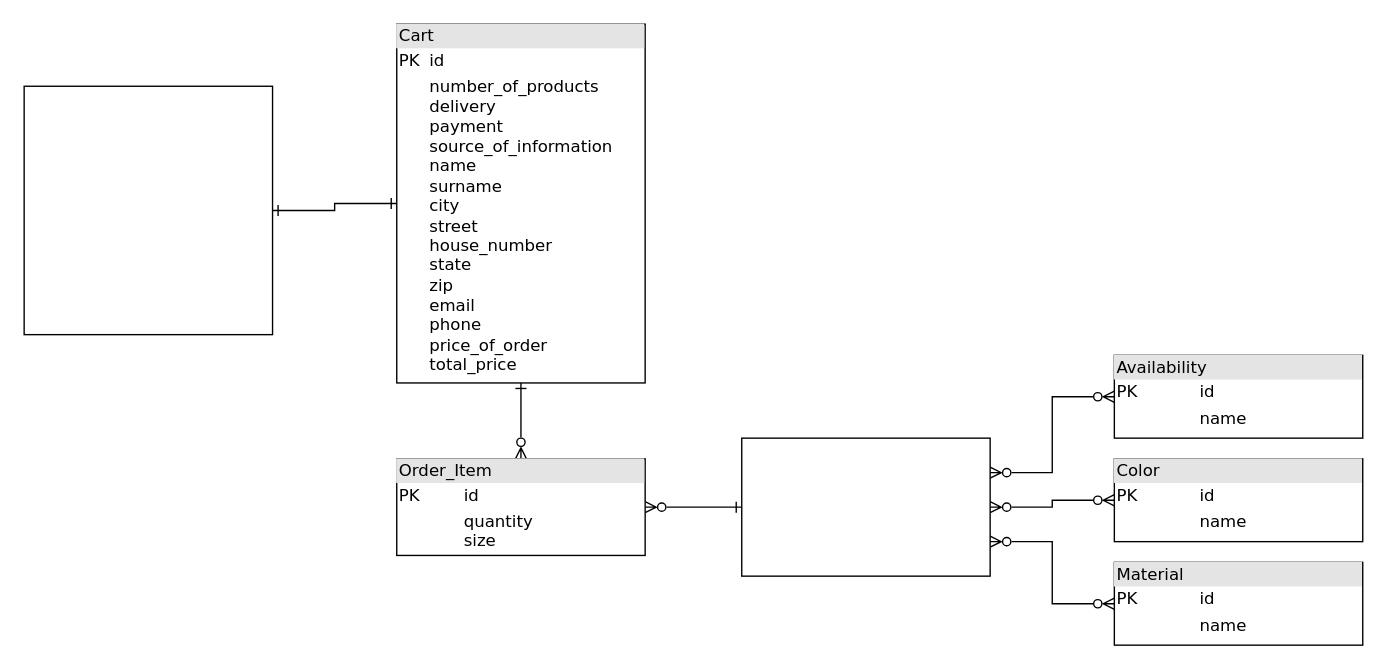
Some shapes in this 1387 by 669 pixel diagram are drawn without their labels. Each missing label, with the centre of its shape:
"Product PK id name price description" belongs at (x=865, y=506).
"User PK id name surname city street house_number state zip email phone" belongs at (x=148, y=210).
